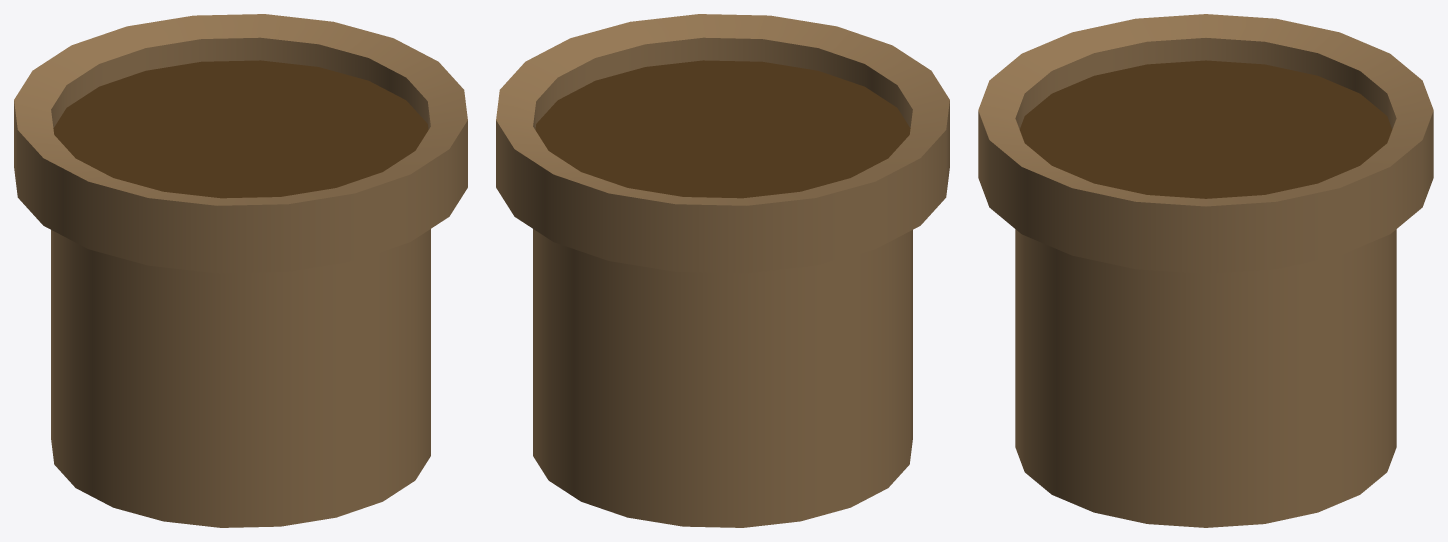
File: Pot.fbx
The picture shows the model from 3 angles, left to right: view 1: azimuth 30°, elevation 25°; view 2: azimuth 150°, elevation 25°; view 3: azimuth 270°, elevation 25°; orthographic projection.
Visible parts, largest first — view 1: pCylinder5, pCylinder11; view 2: pCylinder5, pCylinder11; view 3: pCylinder5, pCylinder11.
Part boxes in pixels (left/top/right/bottom): pCylinder5: left=14, top=14, right=467, bottom=527; pCylinder11: left=53, top=60, right=428, bottom=198; pCylinder5: left=496, top=14, right=949, bottom=527; pCylinder11: left=535, top=60, right=910, bottom=198; pCylinder5: left=978, top=14, right=1433, bottom=527; pCylinder11: left=1019, top=60, right=1392, bottom=198.
Size of the model in its own units: 55.34 by 45.2 by 55.34.
